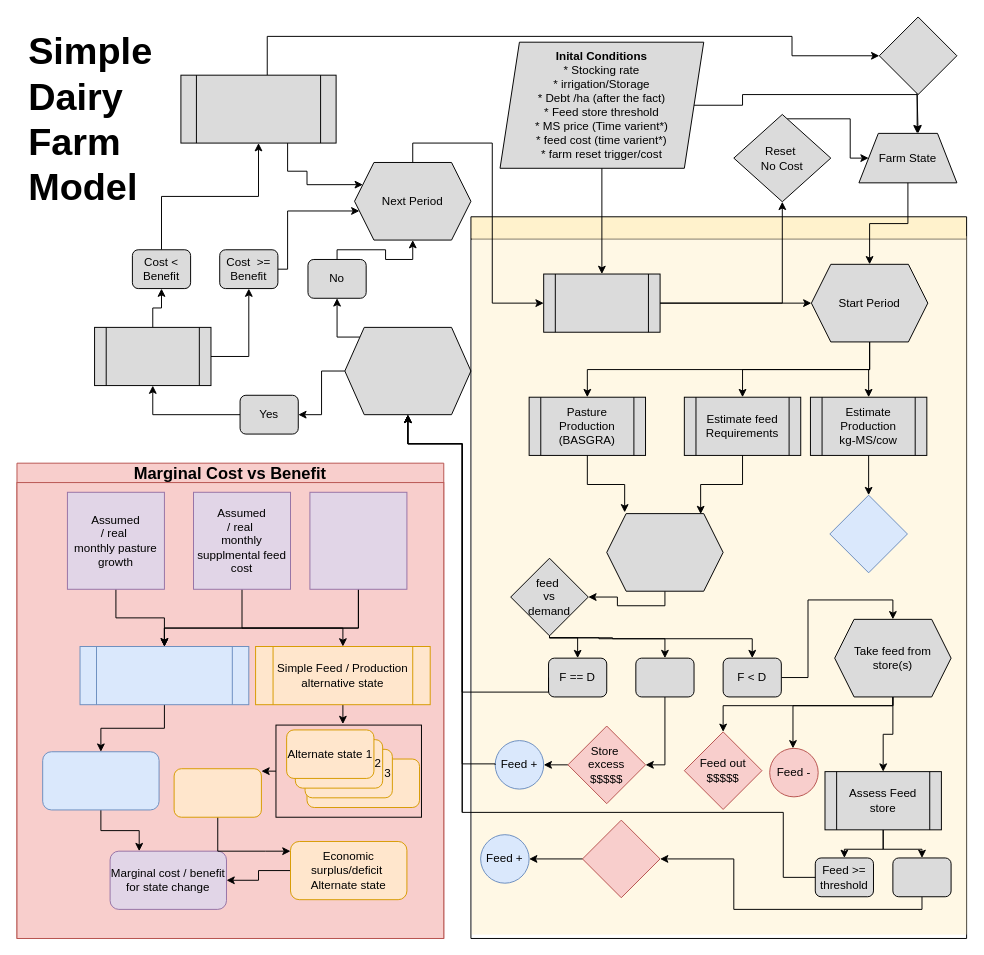
Image size: 984x955. Some labels were removed from this diagram. The shapes that lost their labels are listed below. From the top down, each one's box as (x1, y1, x2, y2) in pixels, then its label:
(878, 16, 957, 95): Change Farm State
(180, 74, 336, 143): Reduce feed demand (reduce milking/stock)
(543, 273, 660, 332): Reset Farm state?
(94, 326, 211, 386): Assess marginal cost/benifit
(344, 326, 471, 415): Is it the 1st or 15th of the month?
(309, 491, 407, 589): Assumed / real monthly product price
(606, 513, 723, 591): Feed Stock
(829, 494, 907, 573): Sell MS $$$$$
(470, 216, 967, 938): Period (day) Process
(79, 646, 249, 705): Simple Feed / Production current state
(635, 657, 694, 697): F > D
(42, 751, 159, 810): Economic surplus/deficit Current state
(173, 768, 261, 817): Pick best alternate state
(306, 758, 420, 808): Alternate state ... n
(582, 819, 660, 898): Buy in Feed $$$$$
(892, 857, 951, 897): Feed < threshold
